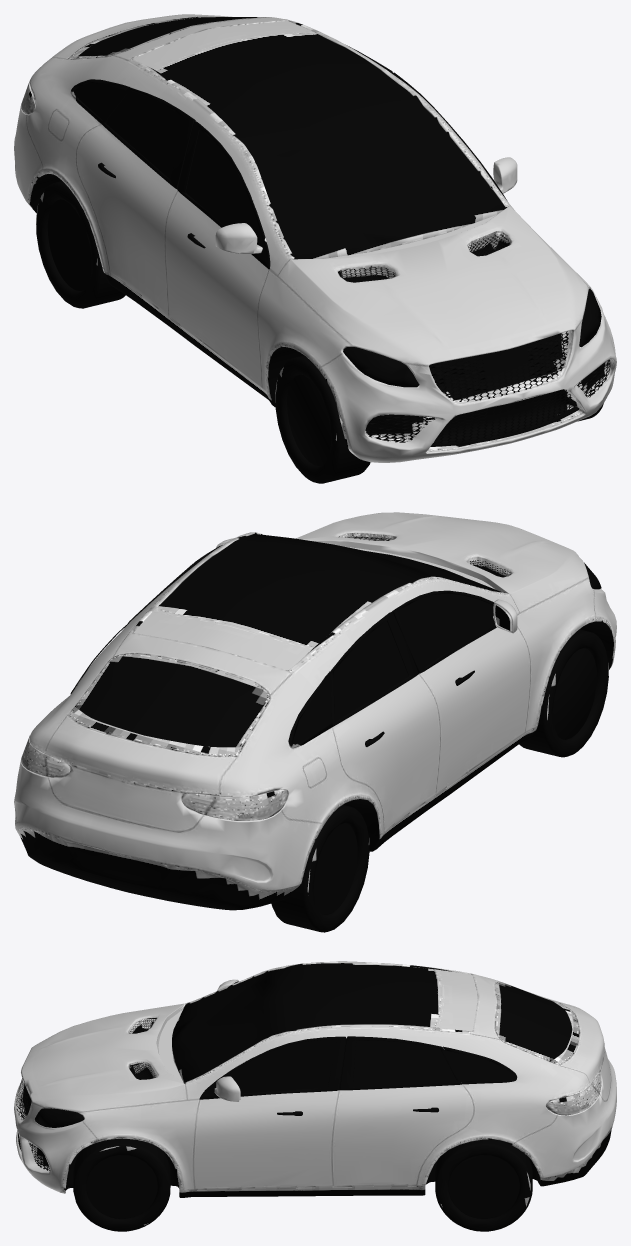
The model's file is crossover.glb.
3 views of the same model, one above another, from view 1: azimuth 30°, elevation 25°; view 2: azimuth 150°, elevation 25°; view 3: azimuth 270°, elevation 25° (orthographic). The views are drawn at different scales.
Parts seen in each view (by area): view 1: Object_2, Object_7, Object_4, Object_6, Object_5, Object_3; view 2: Object_2, Object_7, Object_4, Object_6, Object_3, Object_5; view 3: Object_2, Object_7, Object_4, Object_6, Object_5, Object_3.
Part boxes in pixels (x1,y1,x2,y2): Object_2: [14, 14, 616, 462]; Object_7: [70, 21, 575, 443]; Object_4: [47, 45, 579, 446]; Object_6: [36, 181, 610, 483]; Object_5: [73, 83, 601, 401]; Object_3: [21, 83, 610, 466]; Object_2: [14, 512, 616, 910]; Object_7: [134, 534, 510, 748]; Object_4: [70, 536, 517, 914]; Object_6: [271, 629, 608, 932]; Object_3: [21, 648, 596, 820]; Object_5: [292, 562, 601, 746]; Object_2: [14, 961, 616, 1197]; Object_7: [129, 963, 477, 1083]; Object_4: [18, 979, 519, 1218]; Object_6: [29, 1138, 532, 1231]; Object_5: [16, 1050, 513, 1127]; Object_3: [18, 1075, 601, 1170].
Bounding box in the file's own units: 1.99 × 1.63 × 4.6.
Materials: 1 (1 with a texture image).
